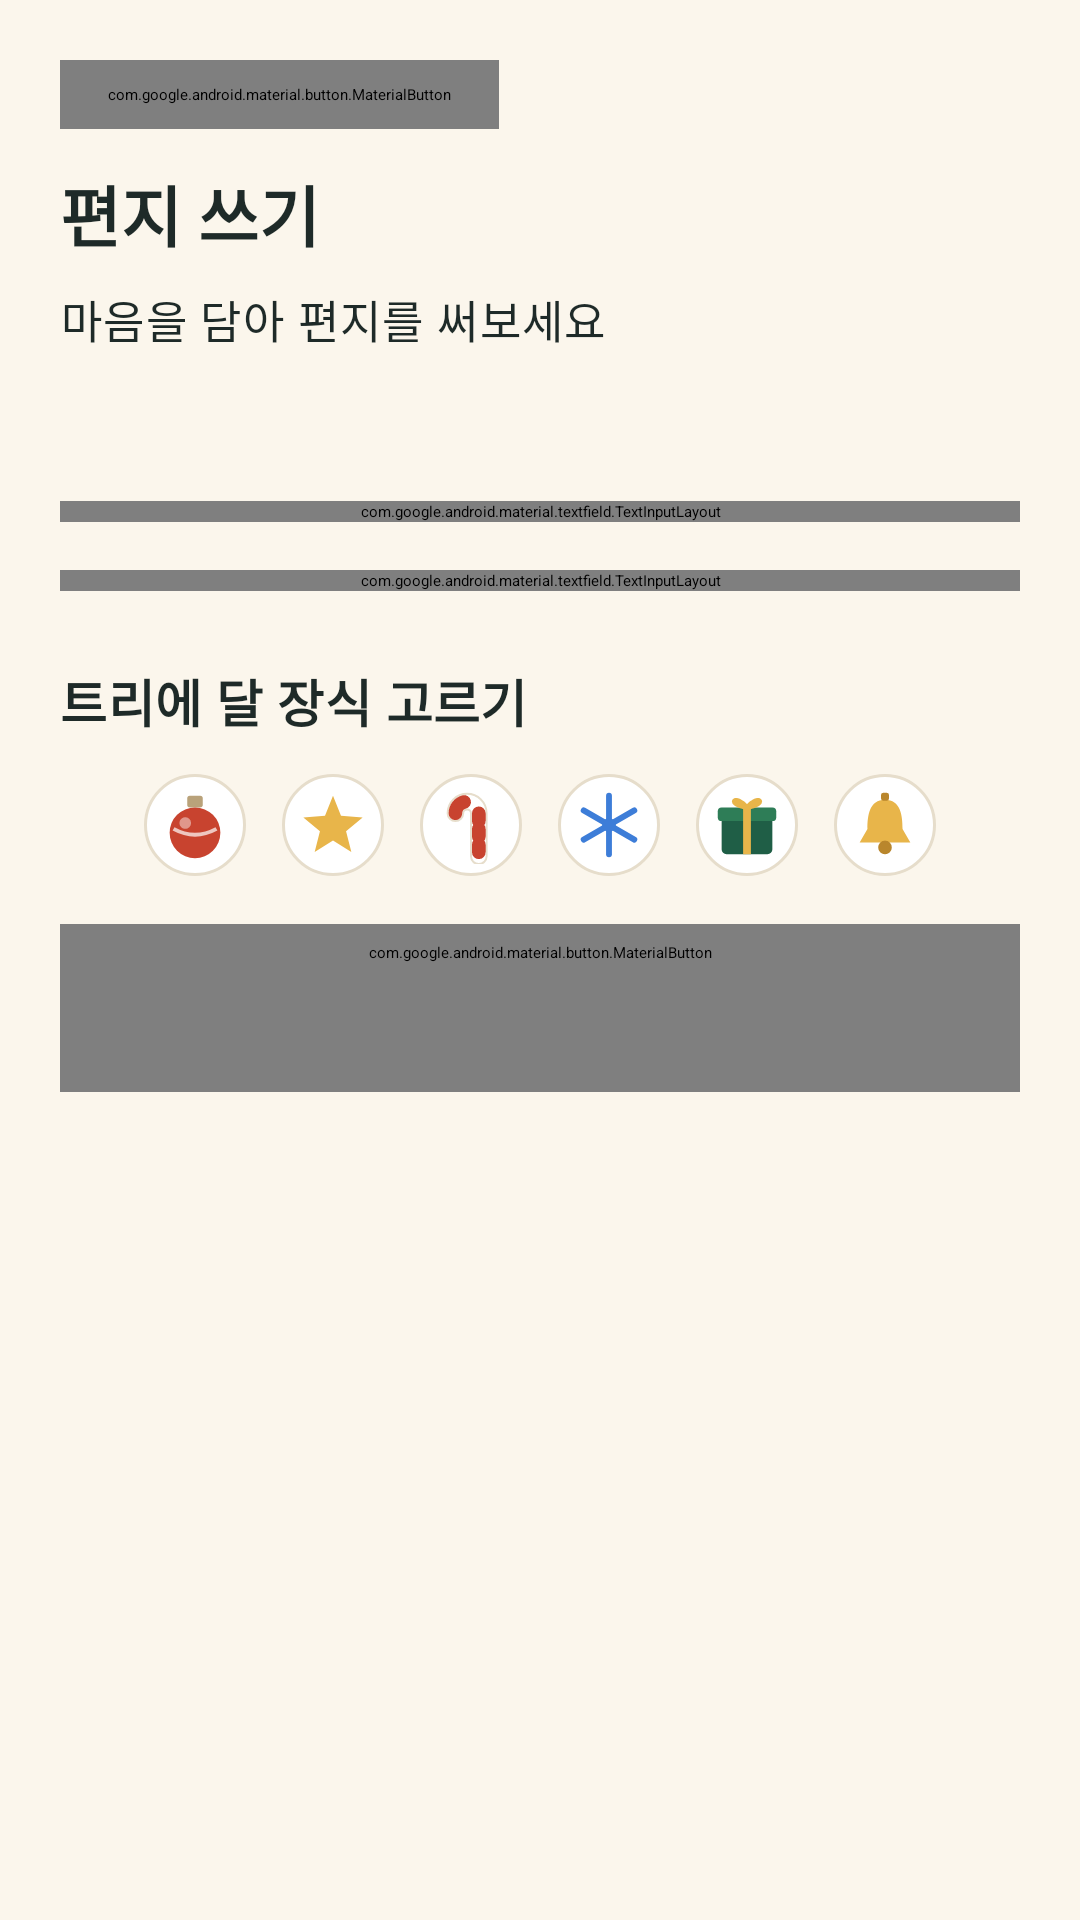

Screen size 1080px x 1920px. Icon name, then its center in pixels as [x,y]:
orn bell: [885,825]
orn star: [333,825]
눈송이: [609,825]
방울: [195,825]
사탕: [471,825]
선물: [747,825]
